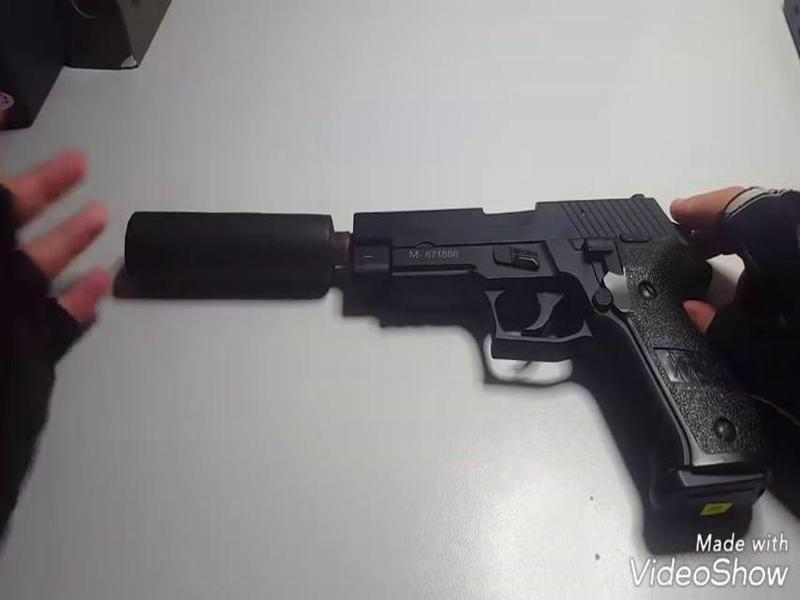Pistola: (107, 152, 770, 504)
